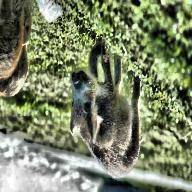boar: (61, 48, 166, 178)
